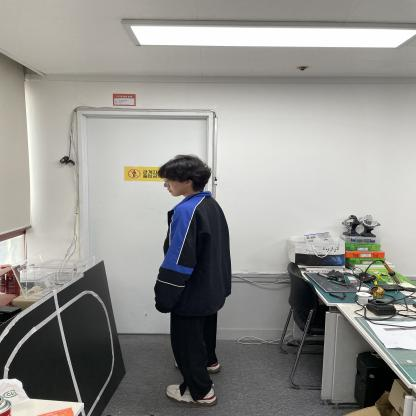normal: (159, 154, 231, 408)
